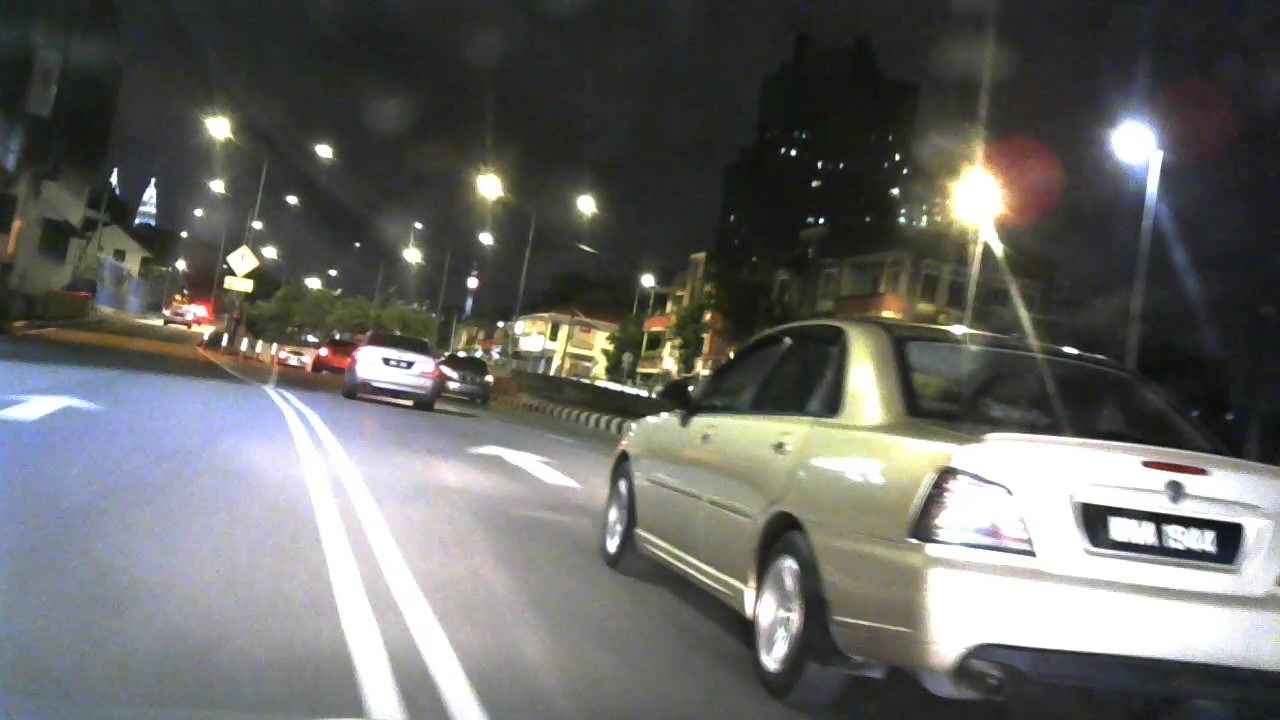Car: (567, 312, 1280, 709), (338, 321, 443, 414), (318, 322, 362, 377), (441, 356, 495, 400), (162, 303, 198, 331), (280, 344, 311, 374)
